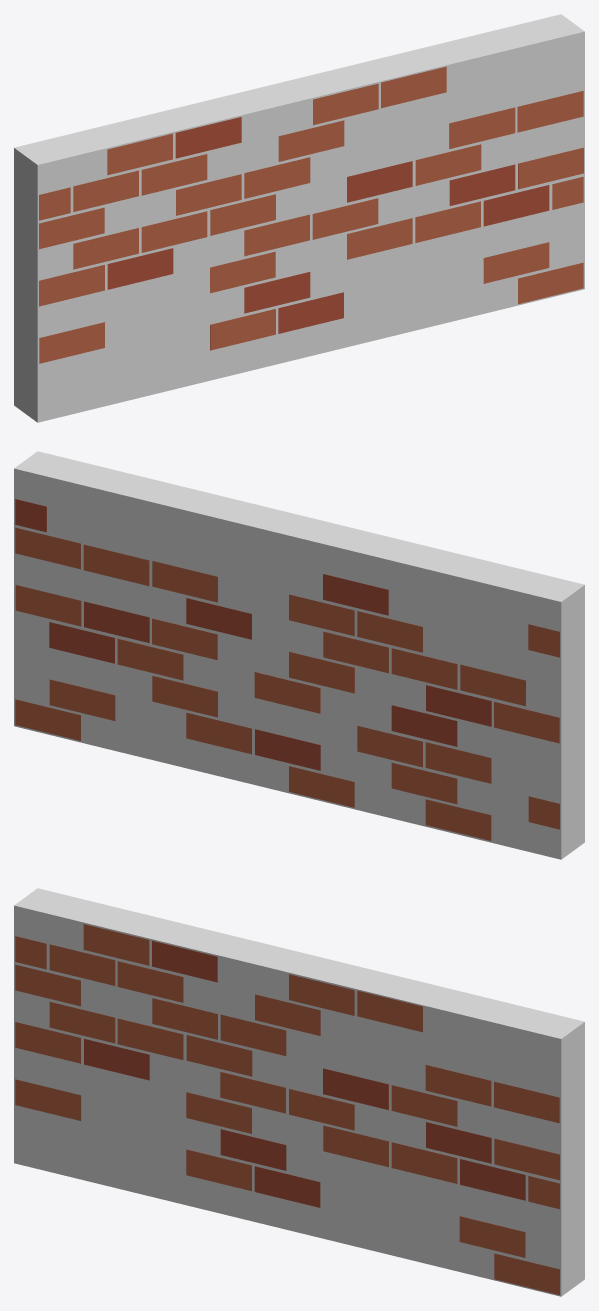
Rendered from bld_halfwall_a.glb.
The picture shows the model from 3 angles, top to bottom: view 1: azimuth 30°, elevation 25°; view 2: azimuth 150°, elevation 25°; view 3: azimuth 330°, elevation 25°; orthographic projection.
Parts seen in each view (by area): view 1: COL_bld_halfwall_a_1, bld_halfwall_a; view 2: COL_bld_halfwall_a_1, bld_halfwall_a; view 3: COL_bld_halfwall_a_1, bld_halfwall_a.
Part boxes in pixels (x1,y1,x2,y2): COL_bld_halfwall_a_1: (14, 14, 584, 422); bld_halfwall_a: (39, 66, 583, 363); COL_bld_halfwall_a_1: (14, 451, 584, 859); bld_halfwall_a: (15, 499, 559, 840); COL_bld_halfwall_a_1: (14, 888, 584, 1296); bld_halfwall_a: (15, 924, 559, 1294).
Size of the model in its own units: 4 by 1.8 by 0.3029.
